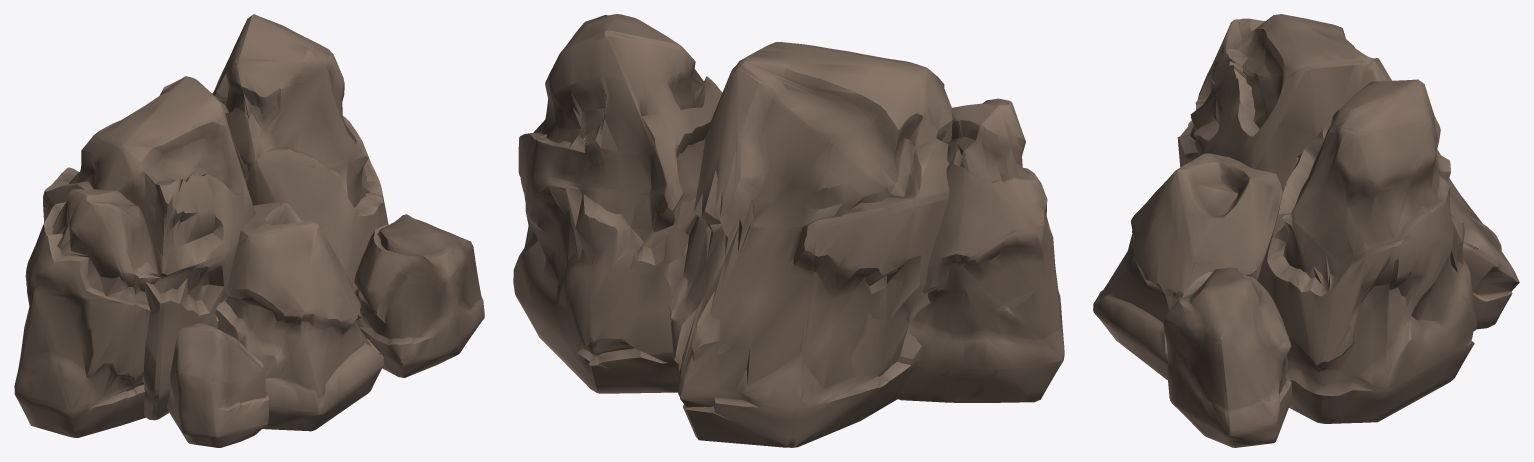
Rendered from corealm_ore_kilnstone_spent.glb.
The picture shows the model from 3 angles, left to right: view 1: azimuth 30°, elevation 25°; view 2: azimuth 150°, elevation 25°; view 3: azimuth 270°, elevation 25°; orthographic projection. The views are drawn at different scales.
Visible parts, largest first — view 1: corealm_ore_kilnstone_spent; view 2: corealm_ore_kilnstone_spent; view 3: corealm_ore_kilnstone_spent.
Boxes of the visible parts, bbox=[...] form: corealm_ore_kilnstone_spent: bbox=[14, 14, 484, 447]; corealm_ore_kilnstone_spent: bbox=[513, 14, 1064, 447]; corealm_ore_kilnstone_spent: bbox=[1093, 14, 1519, 447].
Bounding box in the file's own units: 1.48 × 0.91 × 1.16.
